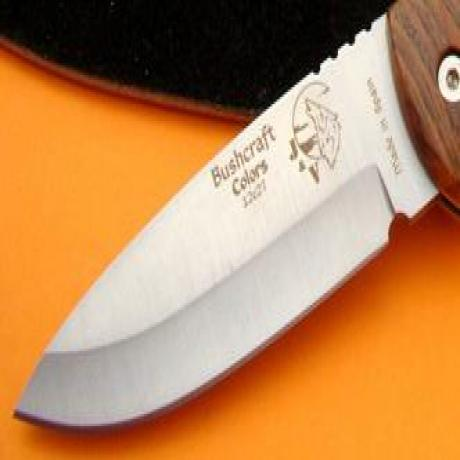weapon: (14, 0, 460, 460)
